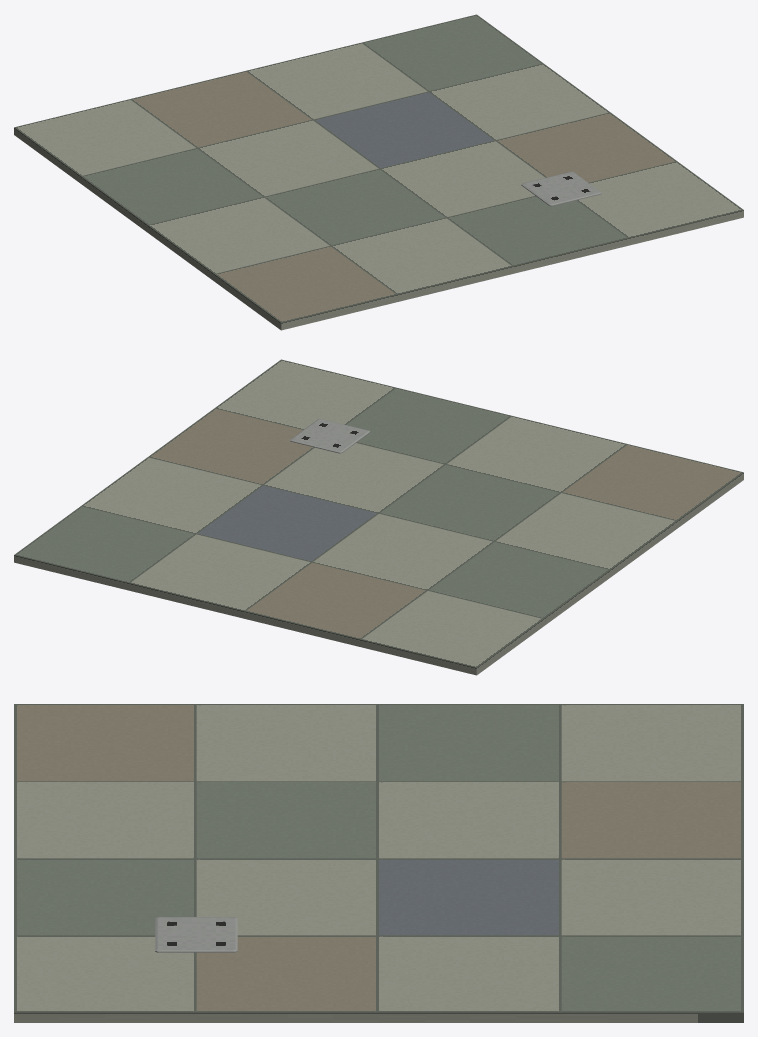
The model's file is floor_1c.glb.
3 views of the same model, one above another, from view 1: azimuth 30°, elevation 25°; view 2: azimuth 150°, elevation 25°; view 3: azimuth 270°, elevation 25° (orthographic). The views are drawn at different scales.
Parts seen in each view (by area): view 1: floor_tiles, floor_edge, floor_plate; view 2: floor_tiles, floor_edge, floor_plate; view 3: floor_tiles, floor_edge, floor_plate.
Boxes of the visible parts, box(x1,y1,x2,y2) form: floor_tiles: box(14, 14, 743, 322); floor_edge: box(14, 127, 743, 330); floor_plate: box(521, 171, 601, 206); floor_tiles: box(14, 359, 743, 667); floor_edge: box(14, 472, 743, 675); floor_plate: box(290, 419, 370, 453); floor_tiles: box(14, 704, 743, 1012); floor_edge: box(14, 1012, 743, 1022); floor_plate: box(155, 917, 237, 952).
Bounding box in the file's own units: 2 × 0.0362 × 2.
Materials: 1 (1 with a texture image).
